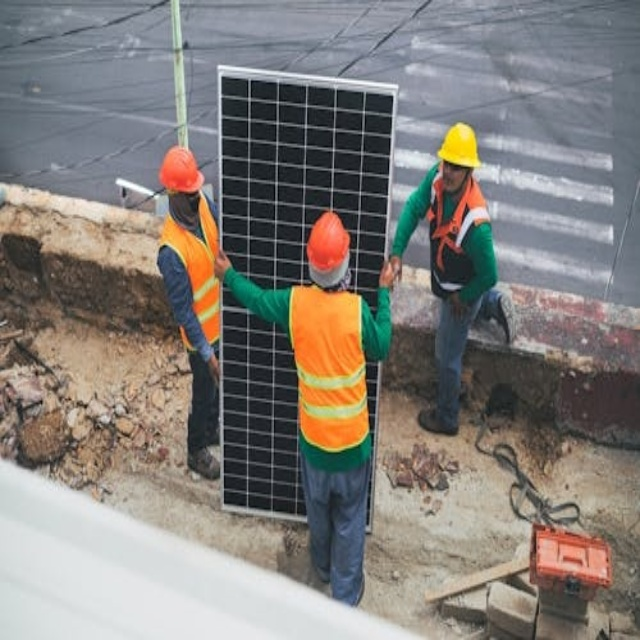Gafas: (440, 159, 466, 174)
Mascara: (186, 194, 204, 218)
Sin_guantes: (202, 349, 225, 391), (378, 257, 400, 290), (212, 242, 231, 279), (448, 291, 471, 321)
Sin_mascara: (440, 169, 457, 190)
